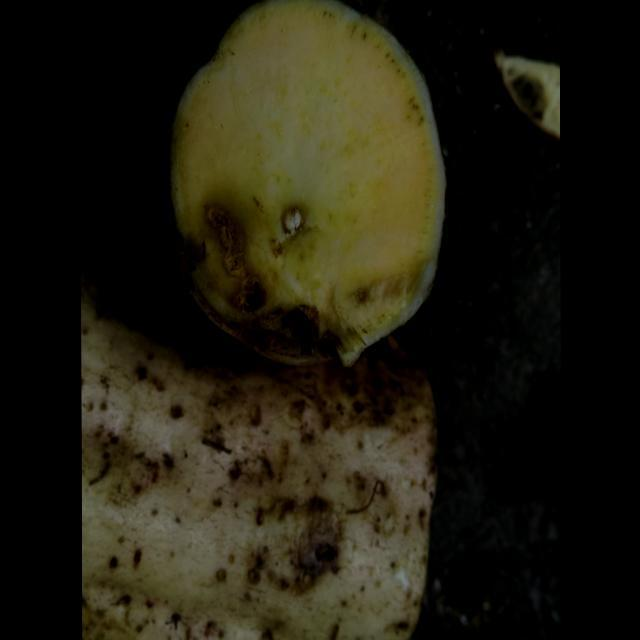Sick Sweet Potato_Tuber Rot: (169, 2, 445, 365)
